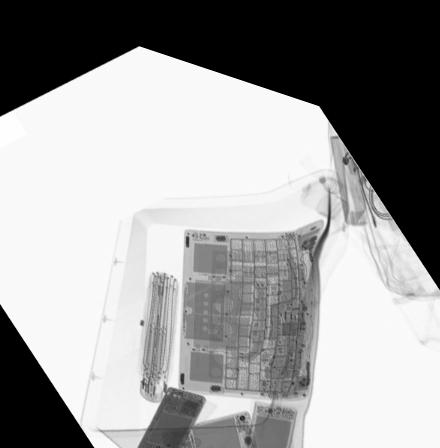Powerbank: (244, 386, 296, 448)
